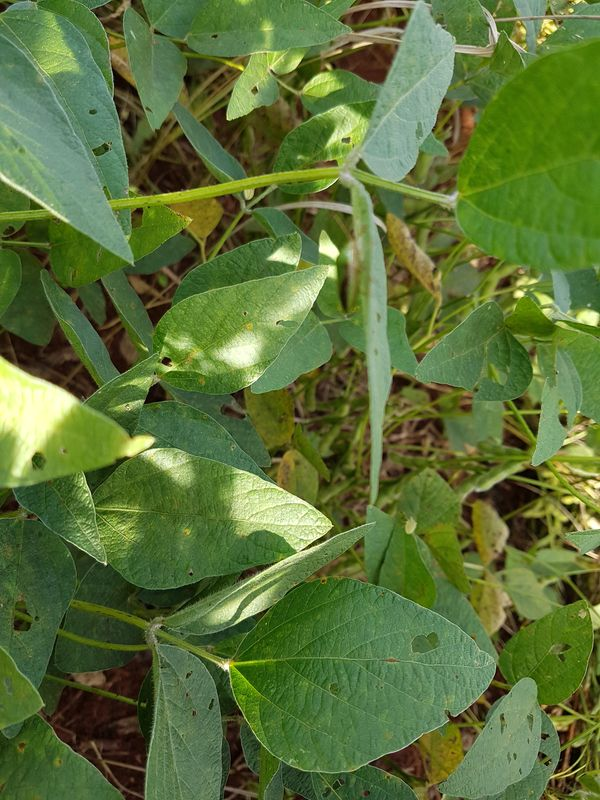Euschistus_heros_ninfa: (400, 513, 421, 537)
